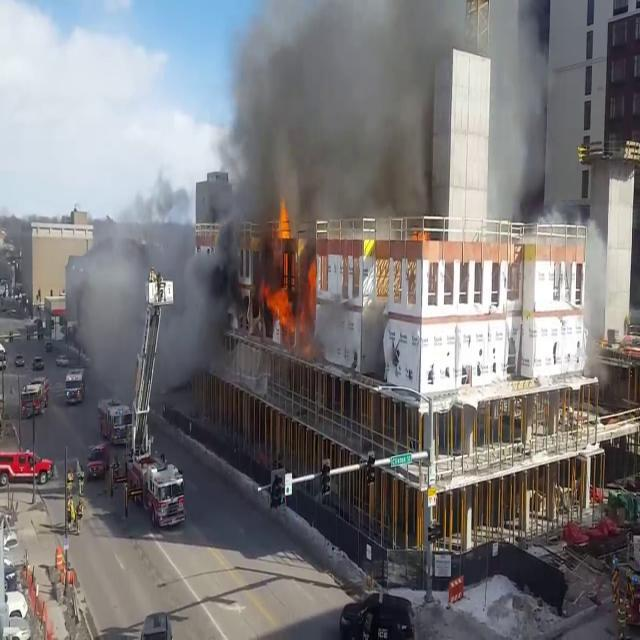Fire: (263, 202, 302, 338)
Smoke: (215, 0, 458, 246), (65, 136, 243, 394), (487, 1, 552, 222)
